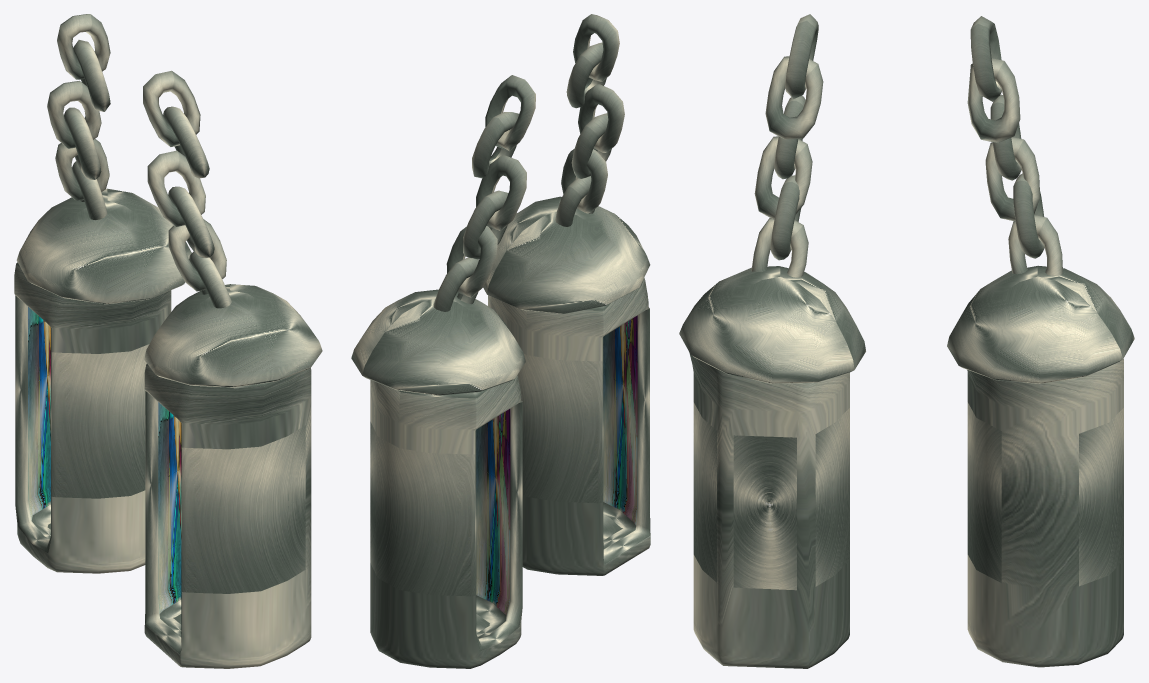
The model's file is Domeart.fbx.
3 views of the same model, side by side, from view 1: azimuth 30°, elevation 25°; view 2: azimuth 150°, elevation 25°; view 3: azimuth 270°, elevation 25° (orthographic). The views are drawn at different scales.
Parts seen in each view (by area): view 1: tunnel, tunnel1, artwork, artworkdome, Chain9, Chain11, Chain1, Chain3, Chain13, Chain12, Chain10, Chain4 (+4 smaller); view 2: tunnel1, tunnel, artworkdome, artwork, Chain3, Chain1, Chain11, Chain9, Chain5, Chain2, Chain4, Chain13 (+4 smaller); view 3: tunnel, tunnel1, artwork, artworkdome, Chain10, Chain2, Chain12, Chain4, Chain1, Chain9, Chain5, Chain6 (+4 smaller).
Boxes of the visible parts, x1,y1,x2,y2 form: tunnel: (144, 364, 311, 668); tunnel1: (14, 262, 171, 573); artwork: (16, 188, 191, 304); artworkdome: (144, 284, 322, 387); Chain9: (143, 70, 200, 147); Chain11: (147, 150, 205, 226); Chain1: (57, 14, 110, 79); Chain3: (47, 80, 101, 148); Chain13: (168, 219, 226, 291); Chain12: (168, 186, 214, 257); Chain10: (163, 106, 209, 178); Chain4: (64, 107, 101, 180); tunnel1: (370, 375, 522, 668); tunnel: (488, 278, 650, 575); artworkdome: (483, 196, 650, 313); artwork: (351, 289, 525, 395); Chain3: (476, 154, 526, 230); Chain1: (485, 75, 535, 150); Chain11: (578, 84, 624, 152); Chain9: (573, 14, 619, 81); Chain5: (446, 226, 497, 297); Chain2: (472, 112, 518, 178); Chain4: (463, 190, 508, 259); Chain13: (561, 149, 607, 213); tunnel: (689, 352, 849, 668); tunnel1: (967, 359, 1123, 667); artwork: (947, 265, 1134, 383); artworkdome: (679, 266, 865, 383); Chain10: (765, 56, 823, 139); Chain2: (967, 58, 1020, 143); Chain12: (754, 136, 812, 219); Chain4: (985, 137, 1040, 221); Chain1: (970, 16, 1001, 101); Chain9: (785, 14, 818, 98); Chain5: (1013, 173, 1044, 258); Chain6: (1008, 215, 1062, 275).
Bounding box in the file's own units: 10.17 × 35.2 × 24.38.
